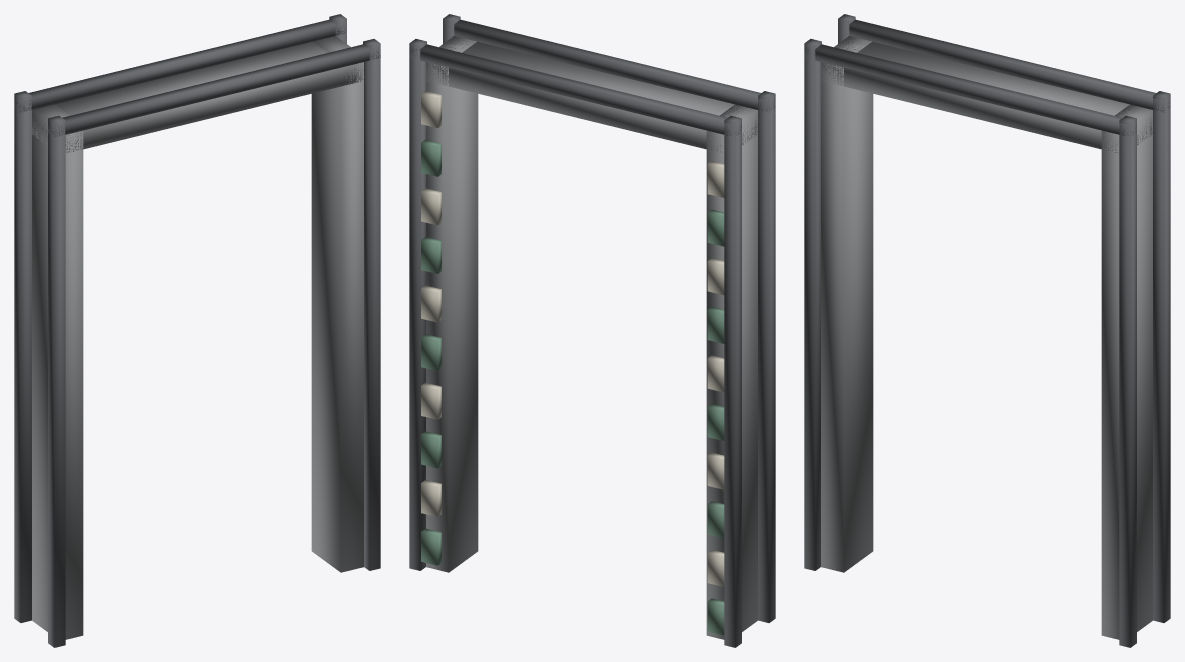
Rendered from doorway_tile_return_w122_h220_d24.glb.
The picture shows the model from 3 angles, left to right: view 1: azimuth 30°, elevation 25°; view 2: azimuth 150°, elevation 25°; view 3: azimuth 330°, elevation 25°; orthographic projection.
Parts seen in each view (by area): view 1: world; view 2: world; view 3: world.
Boxes of the visible parts, bbox=[...] form: world: bbox=[14, 14, 380, 647]; world: bbox=[409, 14, 775, 647]; world: bbox=[804, 14, 1170, 647].
Size of the model in its own units: 1.55 by 2.38 by 0.3296.
